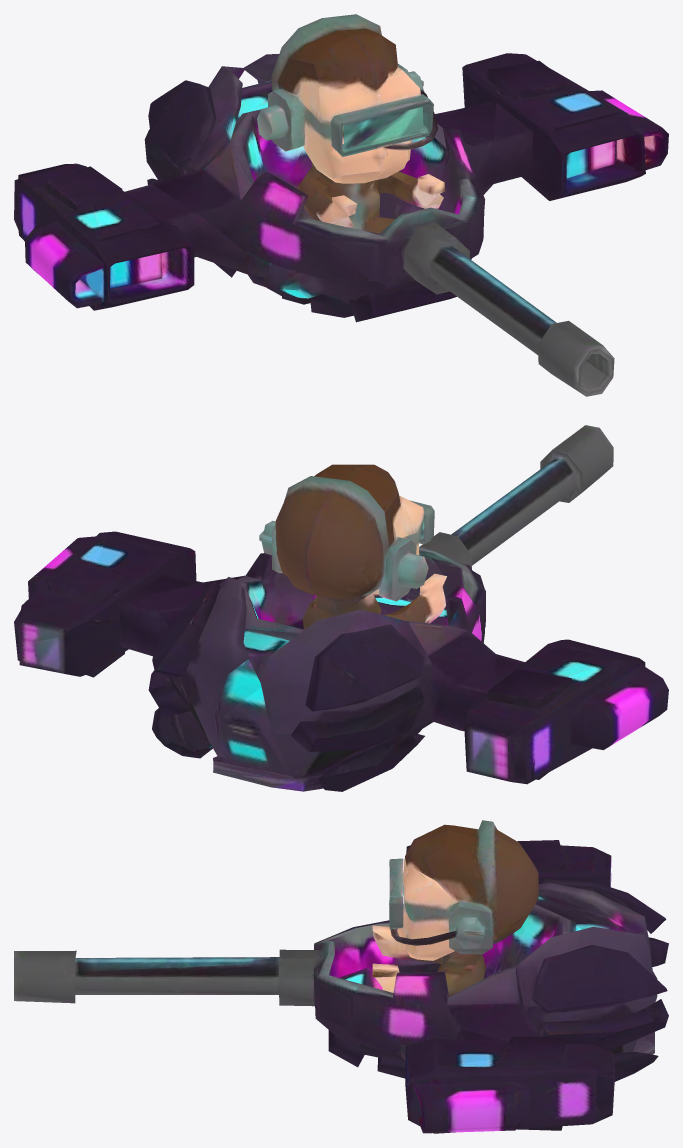
The model's file is chaser.glb.
The picture shows the model from 3 angles, top to bottom: view 1: azimuth 30°, elevation 25°; view 2: azimuth 150°, elevation 25°; view 3: azimuth 270°, elevation 25°; orthographic projection. The views are drawn at different scales.
Parts seen in each view (by area): view 1: mesh_node; view 2: mesh_node; view 3: mesh_node.
Part boxes in pixels (<box>): mesh_node: <box>14,14,668,396</box>; mesh_node: <box>14,425,668,791</box>; mesh_node: <box>14,820,668,1133</box>.
Bounding box in the file's own units: 0.959 × 0.4151 × 1.
1 material, 1 textured.
